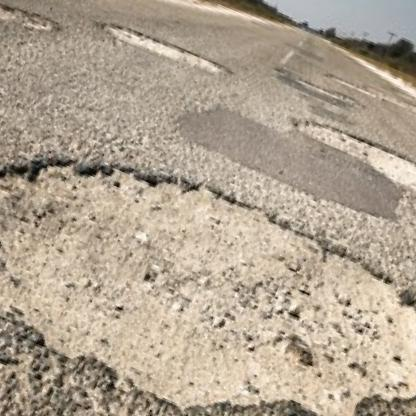pothole: (0, 91, 416, 416), (286, 108, 416, 210), (95, 14, 230, 83), (0, 0, 61, 45), (294, 75, 359, 109), (324, 70, 384, 102), (365, 83, 416, 115)
